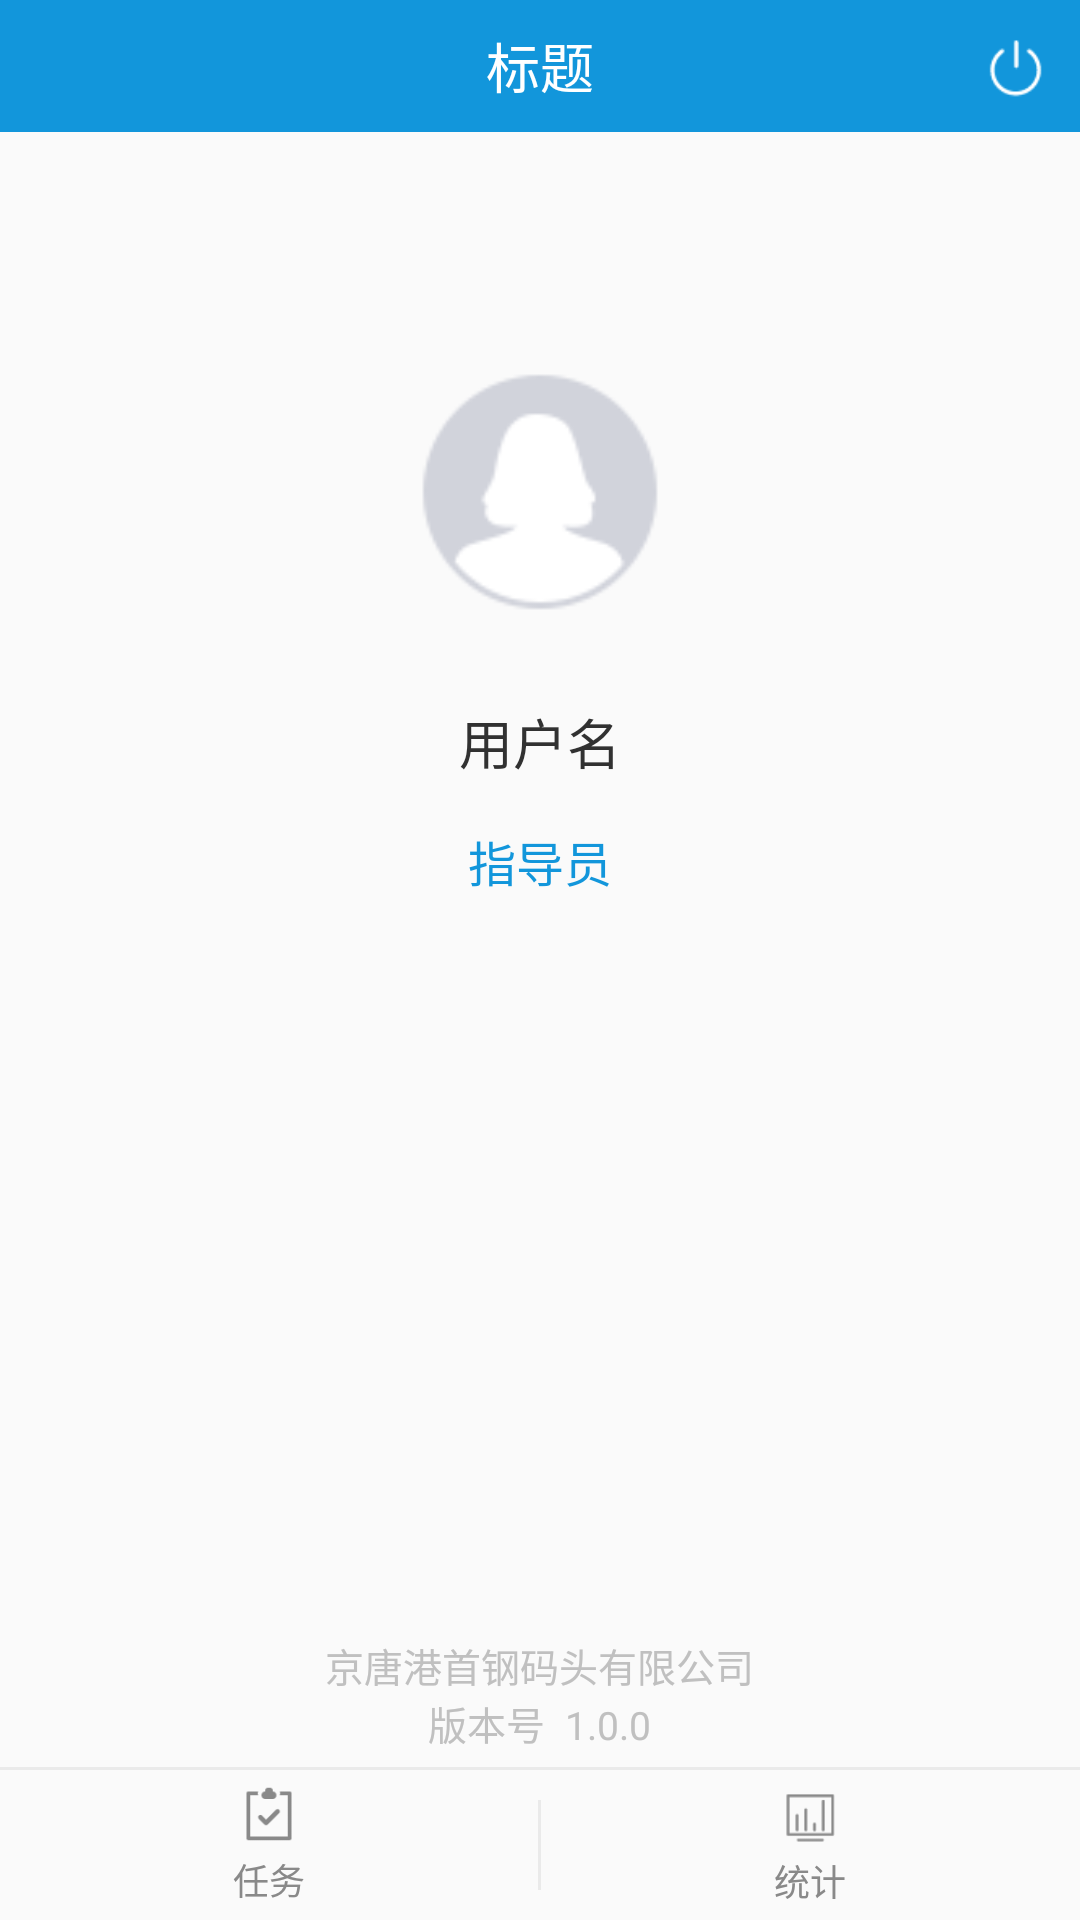

Named icons in this screenshot (1080 x 1920) and their centers, (x,y):
mine exit: (1016,68)
portrait: (540,492)
